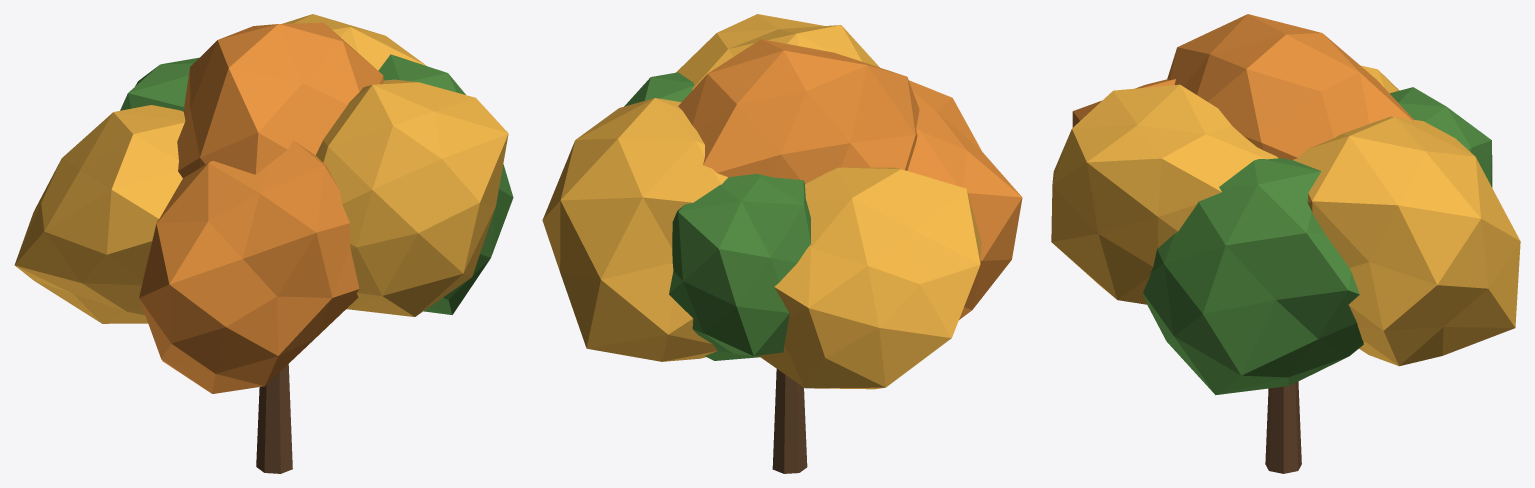
Rendered from oak-amber.glb.
3 renders of one model, left to right at view 1: azimuth 30°, elevation 25°; view 2: azimuth 150°, elevation 25°; view 3: azimuth 270°, elevation 25°, orthographic. The views are drawn at different scales.
Parts seen in each view (by area): view 1: tree; view 2: tree; view 3: tree.
Part boxes in pixels (x1,y1,x2,y2): tree: [14, 14, 513, 473]; tree: [542, 14, 1022, 473]; tree: [1051, 14, 1520, 473].
Bounding box in the file's own units: 12.67 × 12.88 × 12.63.
